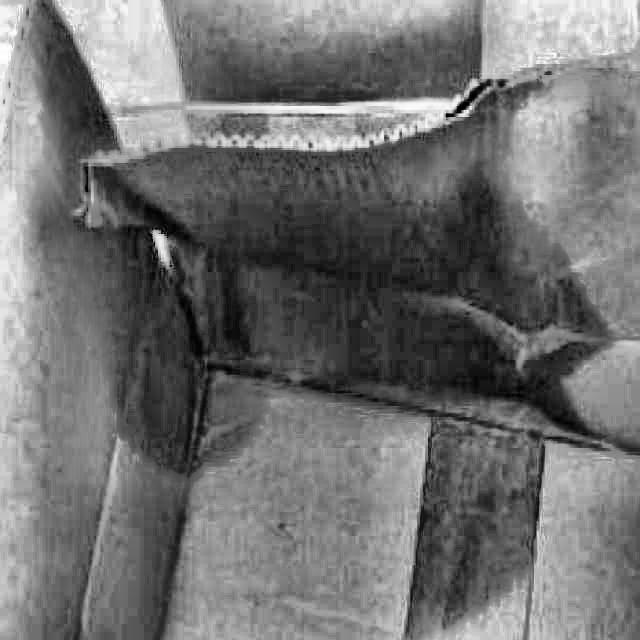box: (0, 0, 639, 639)
wet: (68, 21, 598, 489)
